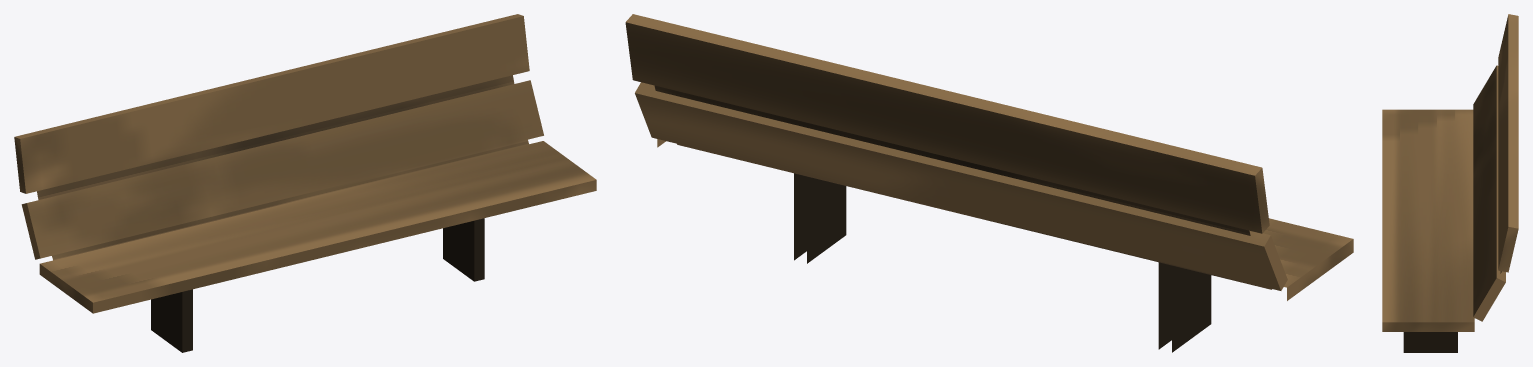
The model's file is ParkBench.fbx.
3 views of the same model, side by side, from view 1: azimuth 30°, elevation 25°; view 2: azimuth 150°, elevation 25°; view 3: azimuth 270°, elevation 25° (orthographic). The views are drawn at different scales.
Parts seen in each view (by area): view 1: ParkBench; view 2: ParkBench; view 3: ParkBench.
Part boxes in pixels (x1,y1,x2,y2): ParkBench: (14, 14, 596, 352); ParkBench: (625, 14, 1353, 352); ParkBench: (1382, 14, 1518, 352).
Bounding box in the file's own units: 862 × 318 × 234.
